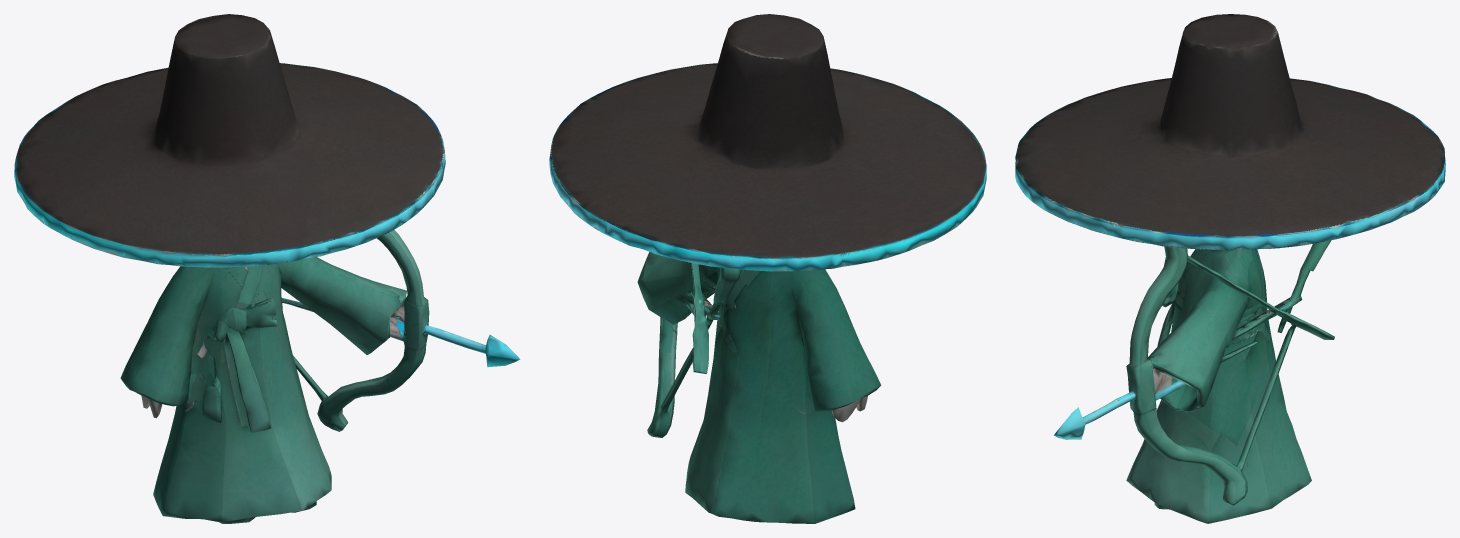
File: Shooter.fbx
The picture shows the model from 3 angles, left to right: view 1: azimuth 30°, elevation 25°; view 2: azimuth 150°, elevation 25°; view 3: azimuth 270°, elevation 25°; orthographic projection. The views are drawn at different scales.
Parts seen in each view (by area): view 1: texture_mapping; view 2: texture_mapping; view 3: texture_mapping.
Boxes of the visible parts, x1=… form: texture_mapping: x1=14, y1=14, x2=520, y2=523; texture_mapping: x1=549, y1=14, x2=986, y2=523; texture_mapping: x1=1015, y1=14, x2=1445, y2=523.
Bounding box in the file's own units: 0.883 × 0.8618 × 1.
1 material, 1 textured.
